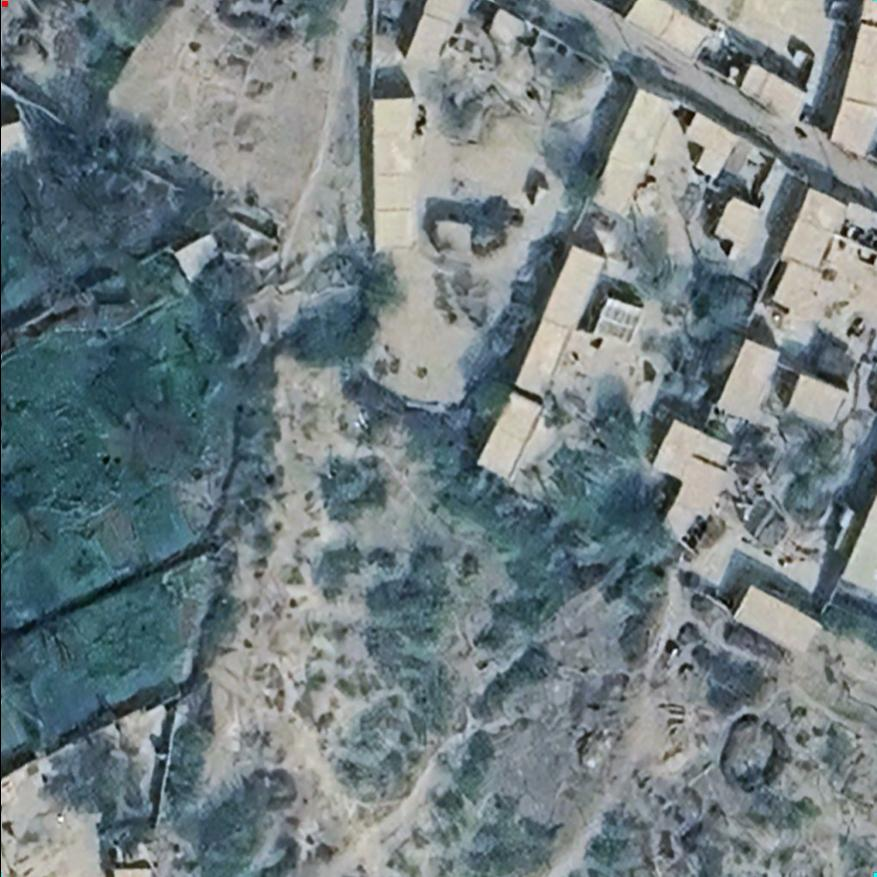Solarpanel: (593, 298, 641, 344)
